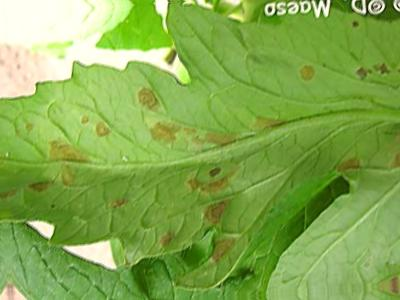Tomato mold leaf: (0, 2, 391, 278)
